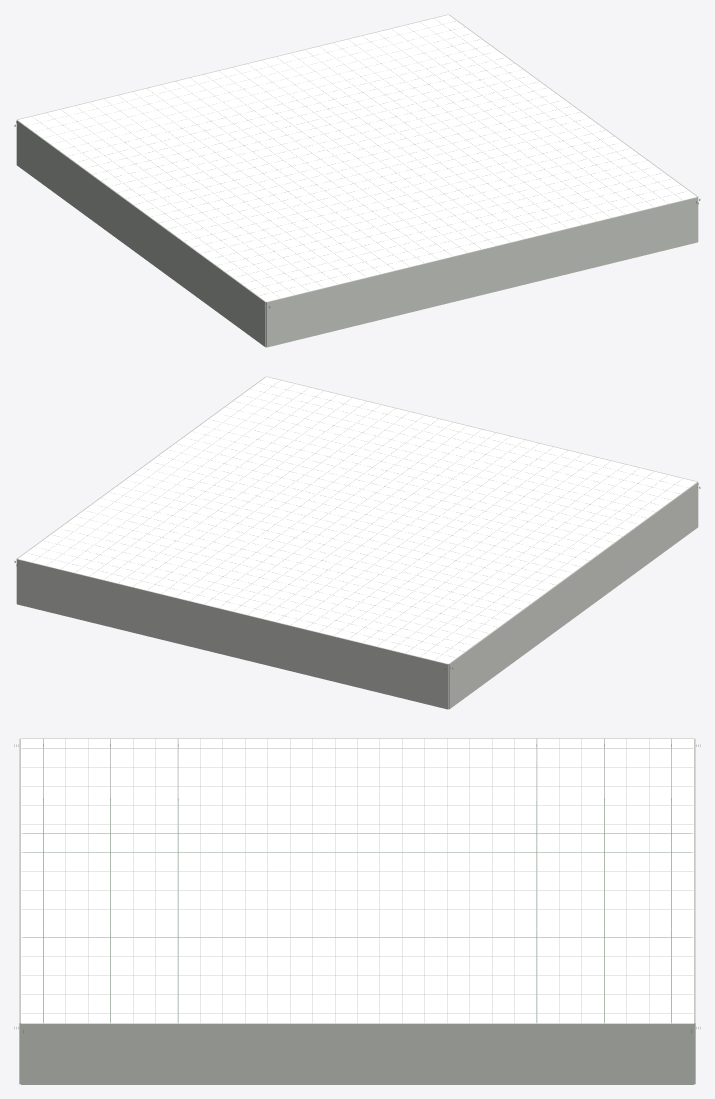
File: office-room.glb
The picture shows the model from 3 angles, top to bottom: view 1: azimuth 30°, elevation 25°; view 2: azimuth 150°, elevation 25°; view 3: azimuth 270°, elevation 25°; orthographic projection. The views are drawn at different scales.
Visible parts, largest first — view 1: Finite office shell 05, Finite office shell 01, Finite office shell 06; view 2: Finite office shell 05, Finite office shell 01, Finite office shell 06; view 3: Finite office shell 05, Finite office shell 01, Finite office shell 06, Finite office shell 00.
Boxes of the visible parts, x1,y1,x2,y2 form: Finite office shell 05: (18,15,696,301); Finite office shell 01: (16,14,698,347); Finite office shell 06: (33,20,679,297); Finite office shell 05: (18,377,696,663); Finite office shell 01: (16,376,698,709); Finite office shell 06: (35,382,681,659); Finite office shell 05: (21,738,693,1023); Finite office shell 01: (19,738,695,1084); Finite office shell 06: (22,739,692,1022); Finite office shell 00: (24,801,690,1022).
Size of the model in its own units: 36.74 by 3.77 by 36.74.
7 materials, 1 textured.
